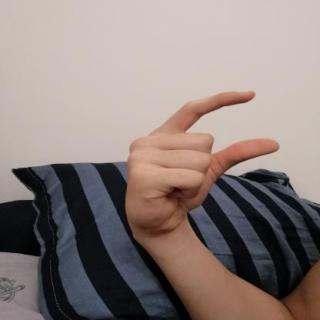DELL: (110, 80, 289, 243)
